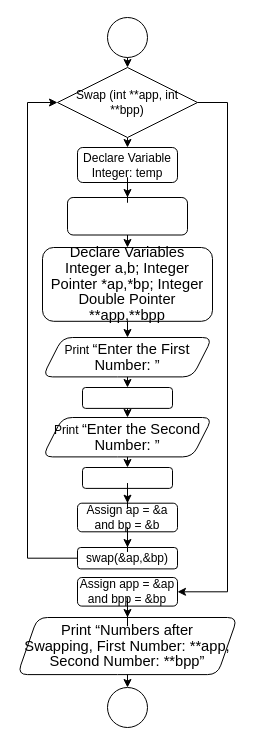
Some shapes in this 255 by 745 pixel diagram are drawn without their labels. Here are the shapes that lost their labels. From the top down, the box of each, then its label:
(106, 16, 148, 58): Start
(66, 196, 188, 235): temp = **app, **app = **bpp, **bpp = temp
(82, 386, 172, 408): Take input for 'a'
(82, 466, 172, 488): Take input for 'b'
(106, 686, 148, 728): End
